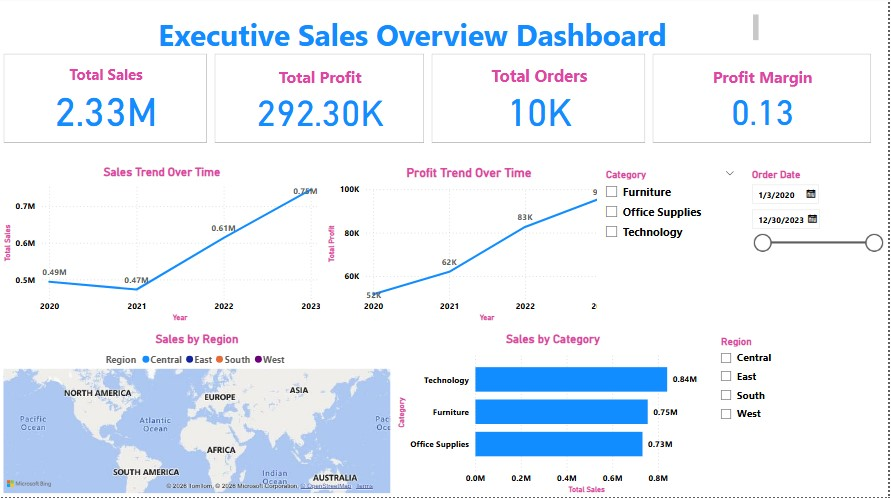

This screenshot's page, from the dashboard's own definition file:
{"tool":"powerbi","page":{"name":"Excecutive Summary","canvas":[1280,720],"ordinal":0},"visuals":[{"type":"cardVisual","fields":{"Data":["Sample - Superstore.Total Sales"]},"box":[0,76.3,303.8,139.7],"z":0},{"type":"cardVisual","fields":{"Data":["Sample - Superstore.Total Profit"]},"box":[303.8,76.3,312.5,139.7],"z":1},{"type":"cardVisual","fields":{"Data":["Sample - Superstore.Total Orders"]},"box":[616.3,76.3,318.2,139.7],"z":2},{"type":"cardVisual","fields":{"Data":["Sample - Superstore.Profit Margin"]},"box":[934.6,76.3,325.4,139.7],"z":3},{"type":"lineChart","title":"Sales Trend Over Time","fields":{"Category":["Sample - Superstore.Order Date.Variation.Date Hierarchy.Year","Sample - Superstore.Order Date.Variation.Date Hierarchy.Quarter","Sample - Superstore.Order Date.Variation.Date Hierarchy.Month","Sample - Superstore.Order Date.Variation.Date Hierarchy.Day"],"Y":["Sample - Superstore.Total Sales"]},"box":[0,241.9,466.6,230.4],"z":4},{"type":"lineChart","title":"Profit Trend Over Time","fields":{"Category":["Sample - Superstore.Order Date.Variation.Date Hierarchy.Year","Sample - Superstore.Order Date.Variation.Date Hierarchy.Quarter","Sample - Superstore.Order Date.Variation.Date Hierarchy.Month","Sample - Superstore.Order Date.Variation.Date Hierarchy.Day"],"Y":["Sample - Superstore.Total Profit"]},"box":[466.6,241.9,417.6,230.4],"z":5},{"type":"map","title":"Sales by Region","fields":{"Series":["Sample - Superstore.Region"],"Size":["Sample - Superstore.Total Sales"]},"box":[0,482.4,567.4,237.6],"z":6},{"type":"clusteredBarChart","title":"Sales by Category","fields":{"Category":["Sample - Superstore.Category"],"Y":["Sample - Superstore.Total Sales"]},"box":[567.4,482.4,457.9,237.6],"z":7},{"type":"slicer","fields":{"Values":["Sample - Superstore.Region"]},"box":[1025.3,482.4,254.9,237.6],"z":8},{"type":"slicer","fields":{"Values":["Sample - Superstore.Category"]},"box":[859.7,241.9,210.2,226.1],"z":9},{"type":"slicer","fields":{"Values":["Sample - Superstore.Order Date"]},"box":[1069.9,241.9,210.2,226.1],"z":10},{"type":"textbox","box":[99.4,20.2,997.9,56.2],"z":11}]}

Visuals, with their boxes in screenshot pixels (x1, y1, x2, y2), scaled from the page's 1280x720 canvas onto the 891x498 screenshot:
cardVisual - Sample - Superstore.Total Sales: [x1=0, y1=53, x2=211, y2=149]
cardVisual - Sample - Superstore.Total Profit: [x1=211, y1=53, x2=429, y2=149]
cardVisual - Sample - Superstore.Total Orders: [x1=429, y1=53, x2=650, y2=149]
cardVisual - Sample - Superstore.Profit Margin: [x1=651, y1=53, x2=877, y2=149]
"Sales Trend Over Time" lineChart: [x1=0, y1=167, x2=325, y2=327]
"Profit Trend Over Time" lineChart: [x1=325, y1=167, x2=615, y2=327]
"Sales by Region" map: [x1=0, y1=334, x2=395, y2=497]
"Sales by Category" clusteredBarChart: [x1=395, y1=334, x2=714, y2=497]
slicer - Sample - Superstore.Region: [x1=714, y1=334, x2=890, y2=497]
slicer - Sample - Superstore.Category: [x1=598, y1=167, x2=745, y2=324]
slicer - Sample - Superstore.Order Date: [x1=745, y1=167, x2=890, y2=324]
textbox: [x1=69, y1=14, x2=764, y2=53]
